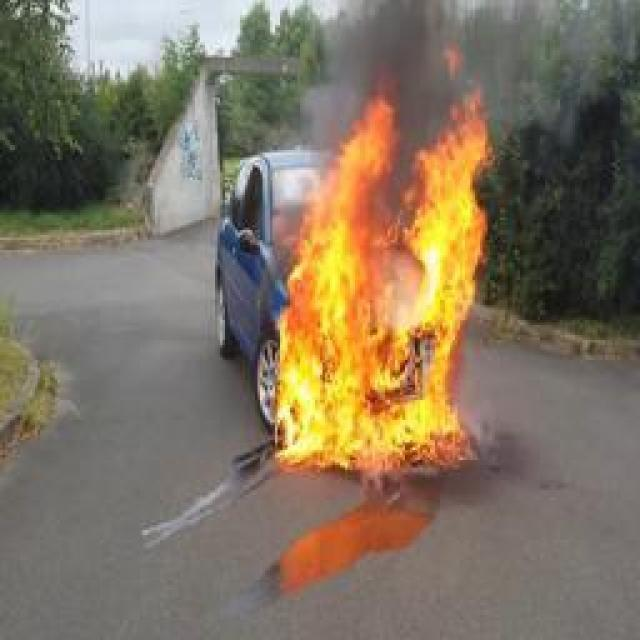Fire: (276, 85, 496, 458)
